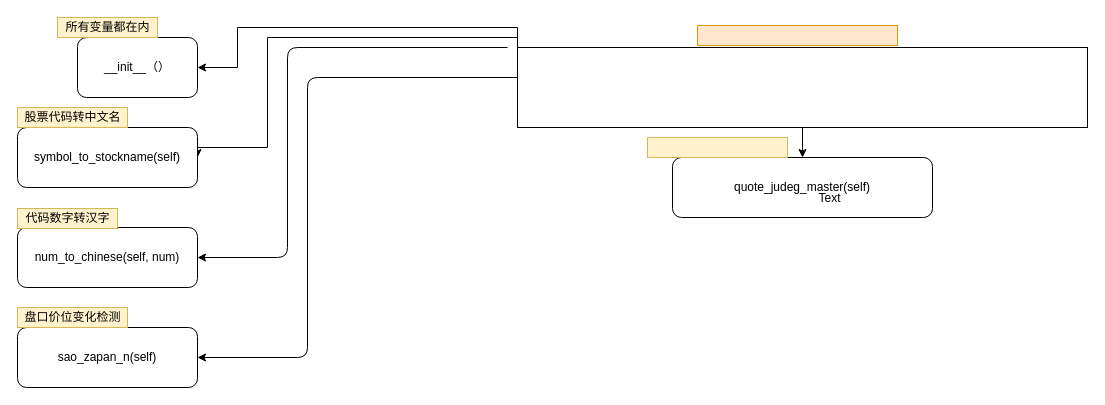
Some shapes in this 1105 by 405 pixel diagram are drawn without their labels. The centre of each missing label's shape, as x and y in pixels:
class AskBidQuote: the point at 802,87
所有盘口检测功能都在此类内完成: the point at 797,35
调用其他函数的总入口: the point at 717,147
